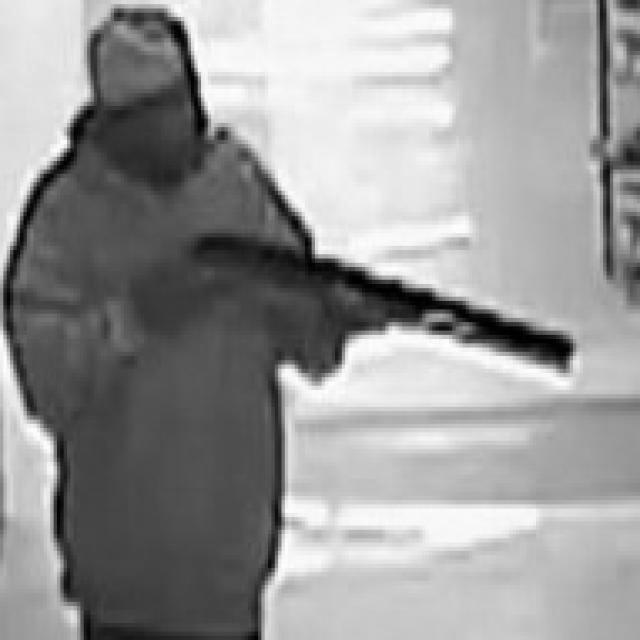weapon: (180, 210, 580, 394)
